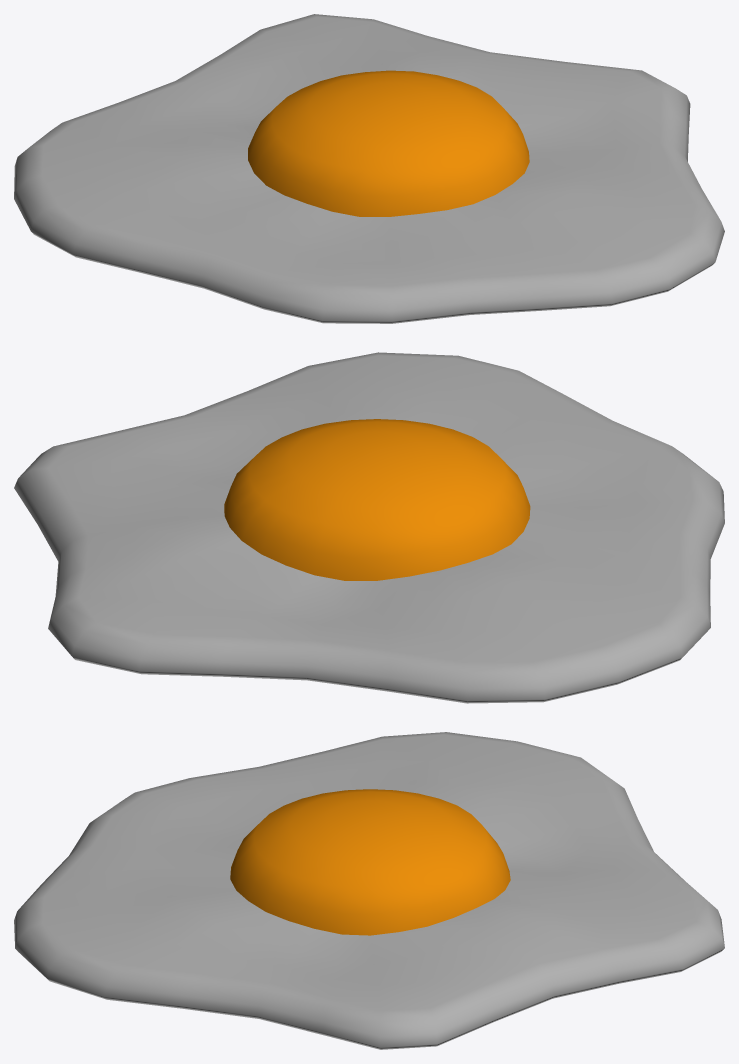
The model's file is Egg_Yolk.fbx.
The picture shows the model from 3 angles, top to bottom: view 1: azimuth 30°, elevation 25°; view 2: azimuth 150°, elevation 25°; view 3: azimuth 270°, elevation 25°; orthographic projection. The views are drawn at different scales.
Parts seen in each view (by area): view 1: pCylinder1; view 2: pCylinder1; view 3: pCylinder1.
Part boxes in pixels (x1,y1,x2,y2): pCylinder1: (14,14,724,323); pCylinder1: (14,352,724,703); pCylinder1: (14,732,724,1049).
Size of the model in its own units: 1.45 by 0.2016 by 1.44.
